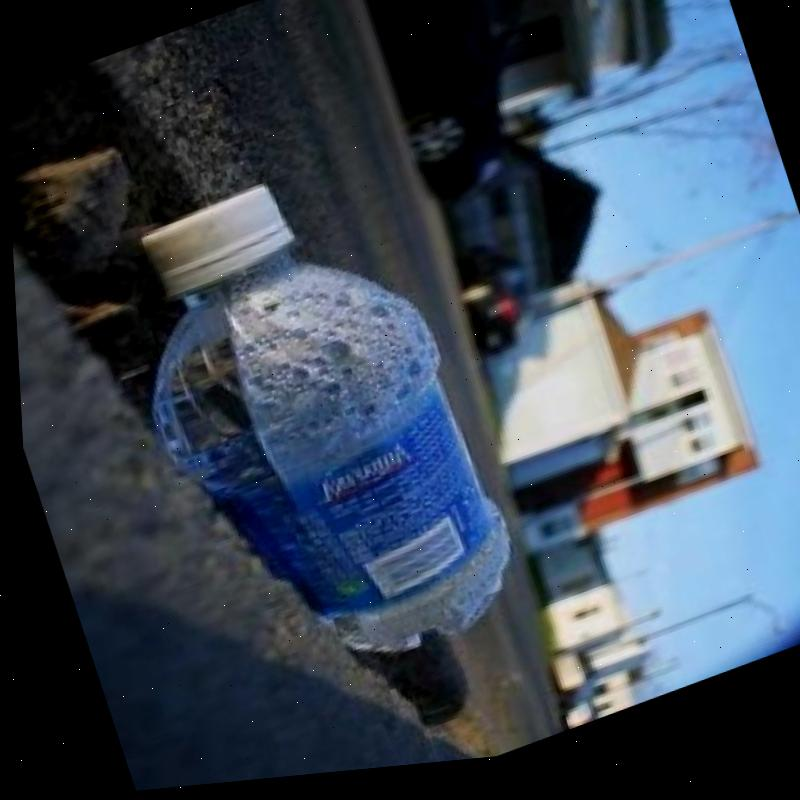botella: (84, 130, 536, 736)
